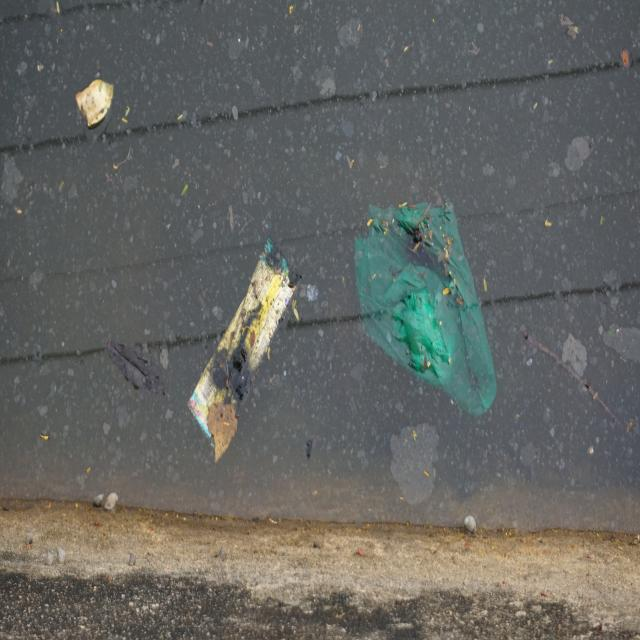Bungkus Makanan: (184, 235, 301, 449)
Kantong Plastik: (353, 198, 502, 422)
